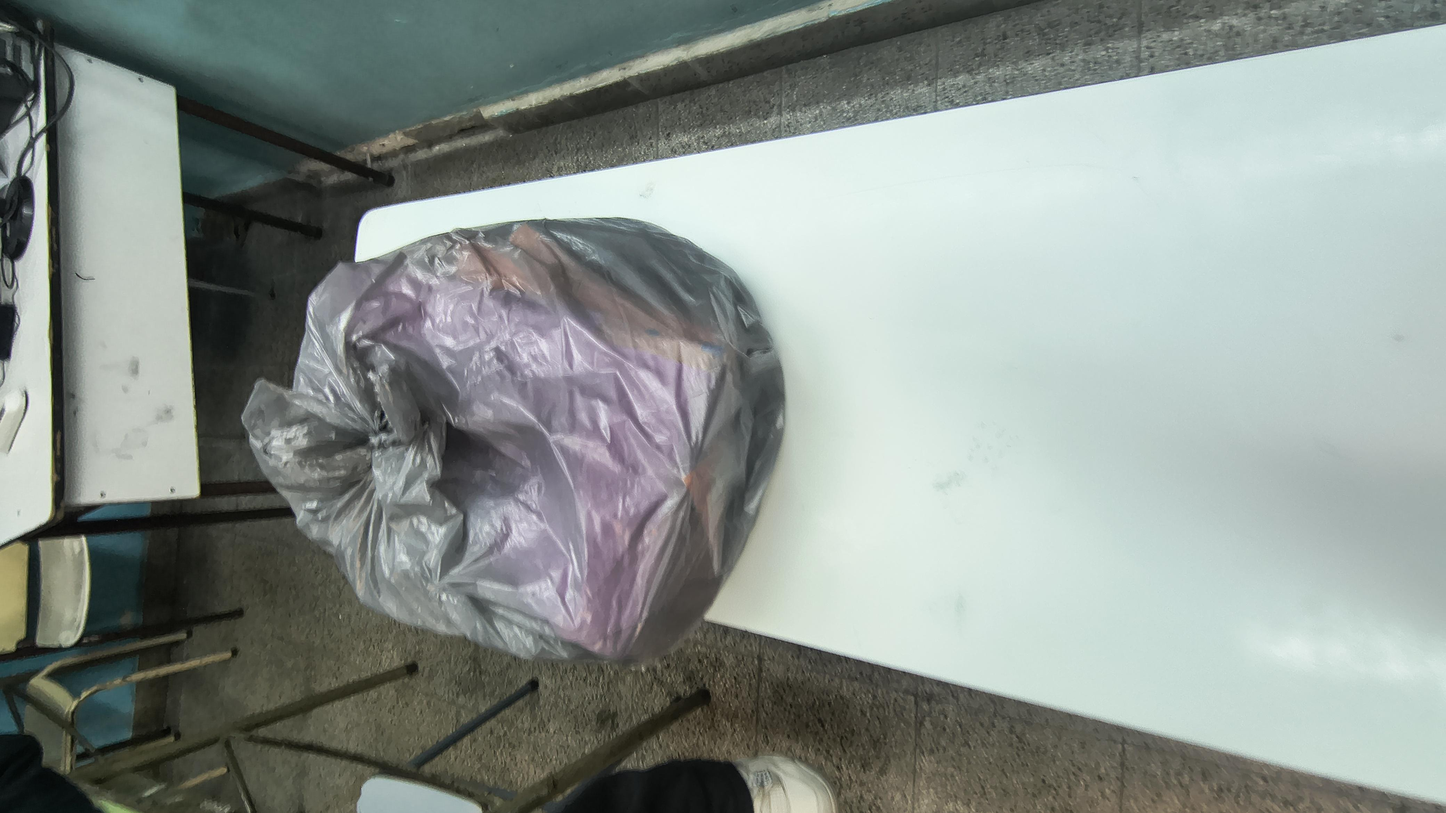Garbage: (192, 123, 1186, 463)
